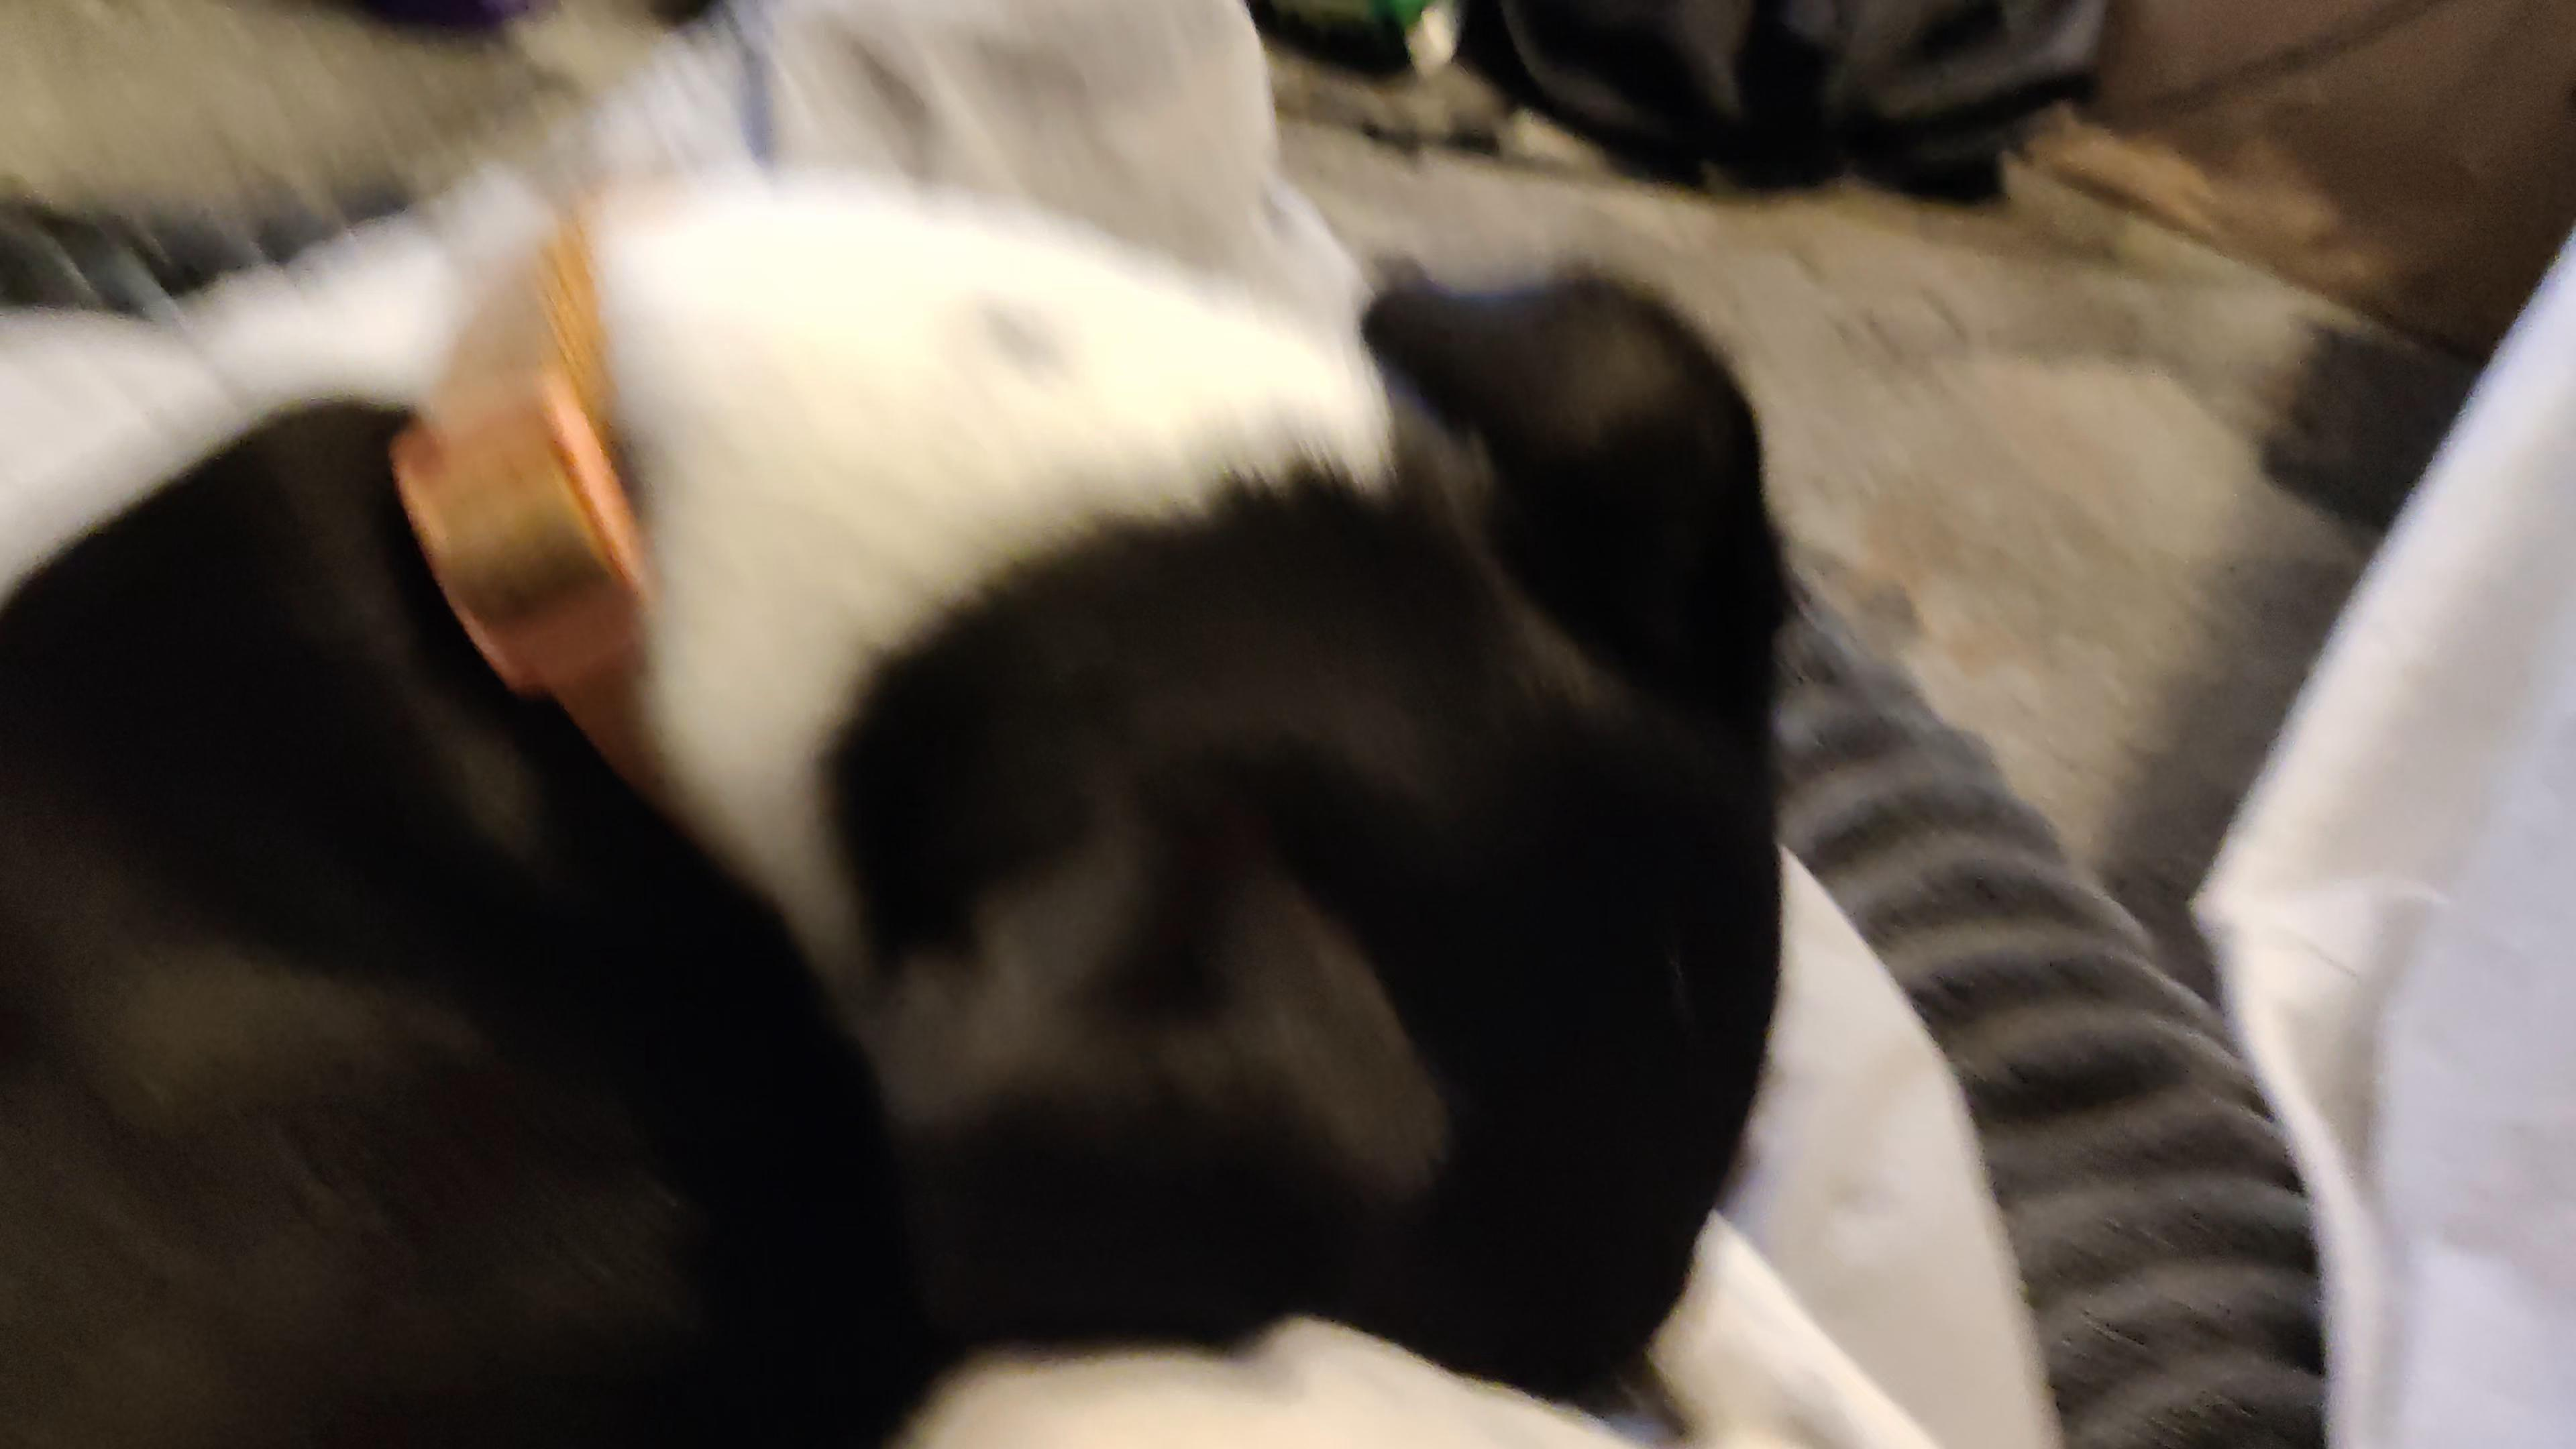Dog: (0, 83, 1971, 1449)
